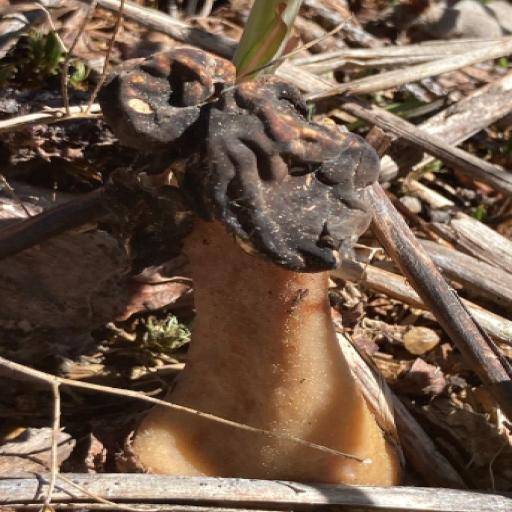mushroom: (109, 50, 403, 497)
